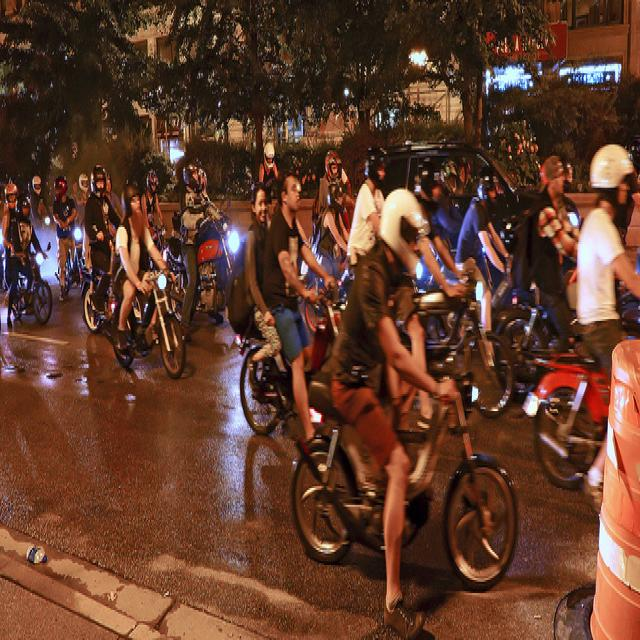motor: (293, 384, 517, 591), (233, 281, 349, 435), (414, 290, 516, 420), (524, 351, 610, 490), (163, 193, 244, 324), (491, 258, 560, 401), (109, 267, 184, 379), (301, 246, 348, 336), (12, 241, 52, 325), (55, 222, 87, 298), (79, 268, 103, 332)
